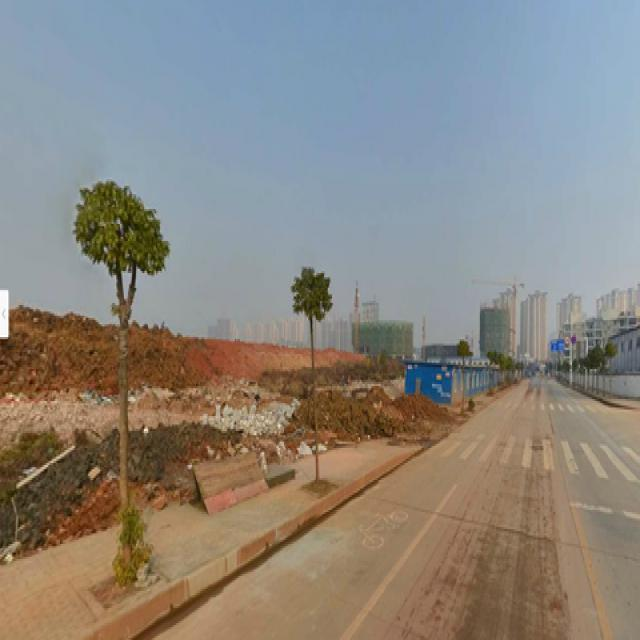cinn: (78, 173, 166, 576), (292, 263, 339, 487)
